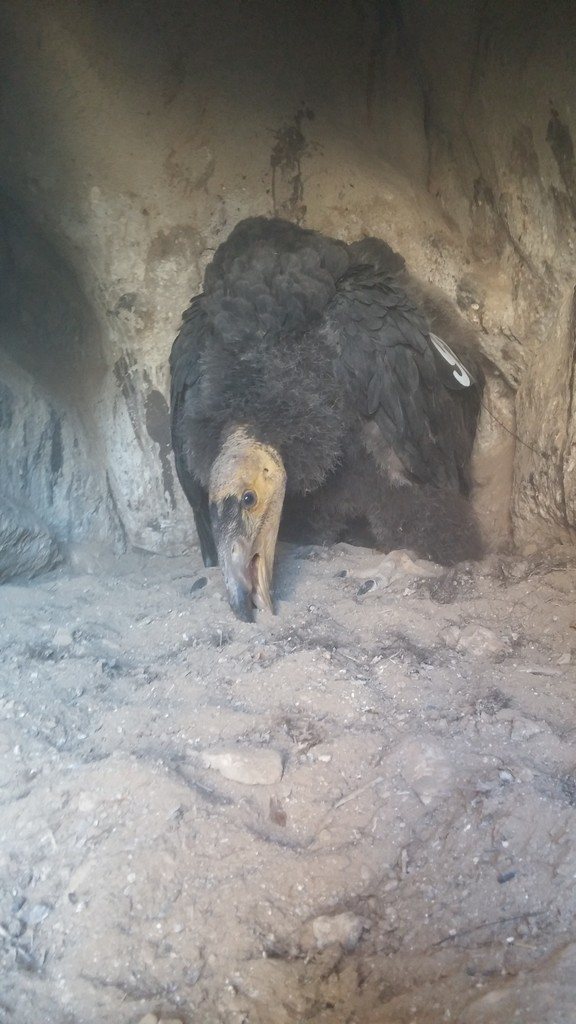Animal: (173, 213, 481, 626)
